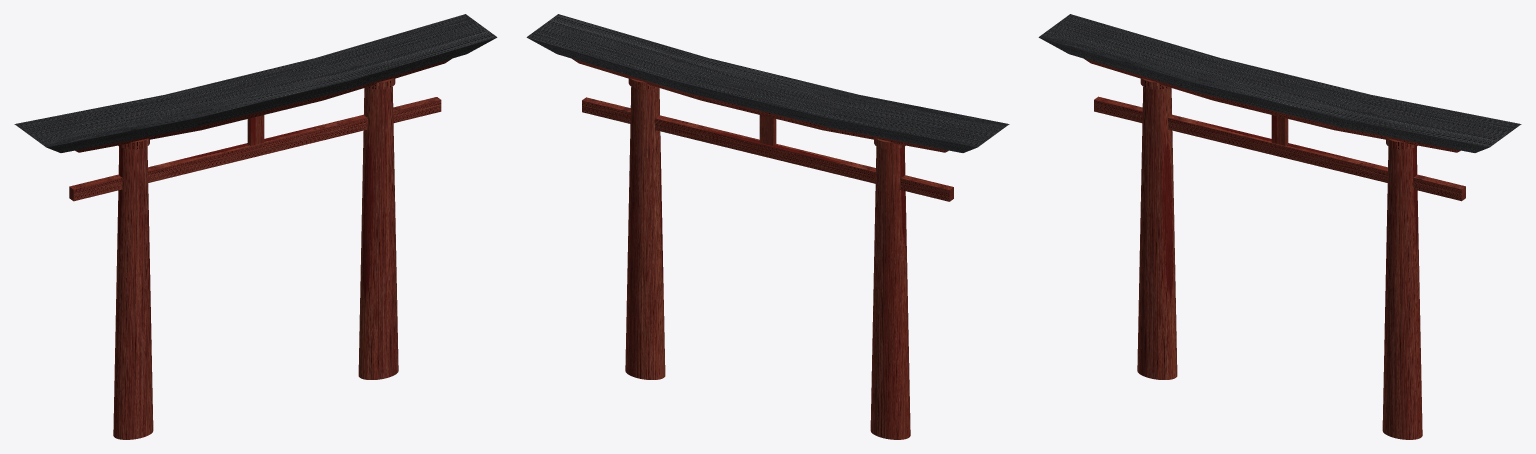
File: torii_gate.glb
3 renders of one model, left to right at view 1: azimuth 30°, elevation 25°; view 2: azimuth 150°, elevation 25°; view 3: azimuth 330°, elevation 25°, orthographic.
Parts seen in each view (by area): view 1: columns, sides_gates, gate_hight_plank, sides_forward_gates, roof, midbar; view 2: columns, sides_gates, gate_hight_plank, sides_forward_gates, roof, midbar; view 3: columns, sides_gates, gate_hight_plank, sides_forward_gates, roof, midbar.
Boxes of the visible parts, x1=… form: columns: x1=113, y1=78, x2=398, y2=439; sides_gates: x1=14, y1=14, x2=497, y2=147; gate_hight_plank: x1=69, y1=97, x2=441, y2=201; sides_forward_gates: x1=46, y1=37, x2=496, y2=152; roof: x1=75, y1=58, x2=451, y2=152; midbar: x1=247, y1=115, x2=264, y2=145; columns: x1=625, y1=78, x2=910, y2=439; sides_gates: x1=526, y1=14, x2=1009, y2=147; gate_hight_plank: x1=582, y1=97, x2=953, y2=201; sides_forward_gates: x1=527, y1=37, x2=977, y2=152; roof: x1=572, y1=58, x2=948, y2=152; midbar: x1=759, y1=115, x2=776, y2=145; columns: x1=1137, y1=78, x2=1422, y2=439; sides_gates: x1=1038, y1=14, x2=1521, y2=147; gate_hight_plank: x1=1094, y1=96, x2=1465, y2=201; sides_forward_gates: x1=1039, y1=37, x2=1489, y2=152; roof: x1=1084, y1=58, x2=1460, y2=152; midbar: x1=1271, y1=115, x2=1288, y2=145.
Size of the model in its own units: 11.04 by 7.54 by 1.35.
Materials: 4 (4 with a texture image).
